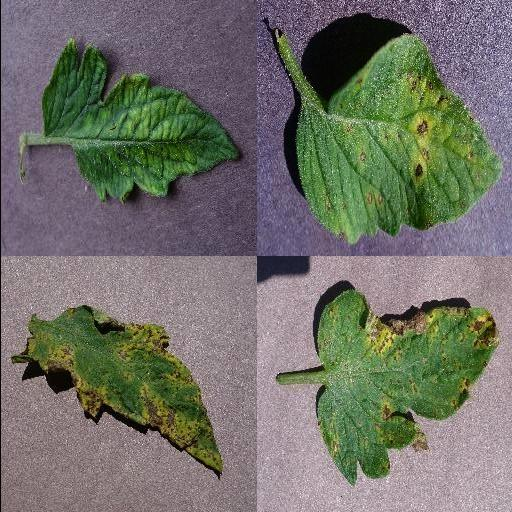Mosaic Virus: (41, 33, 241, 207)
Septoria: (293, 31, 499, 243), (314, 291, 500, 486), (12, 307, 224, 476)
